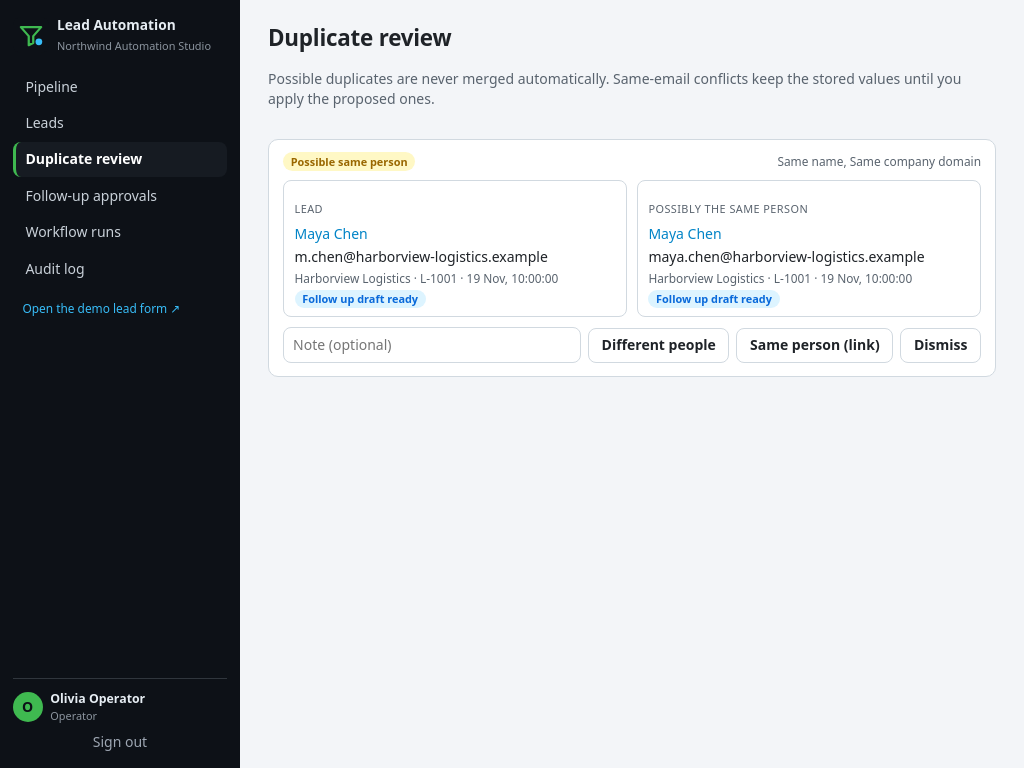
duplicate review › resolves a possible duplicate as different people
The width and height of the screenshot is (1024, 768).
Check: the text "Same name, Same company domain" is shown, box [777, 153, 981, 170]
Click the button "Different people" at (659, 345), box [588, 328, 729, 363]
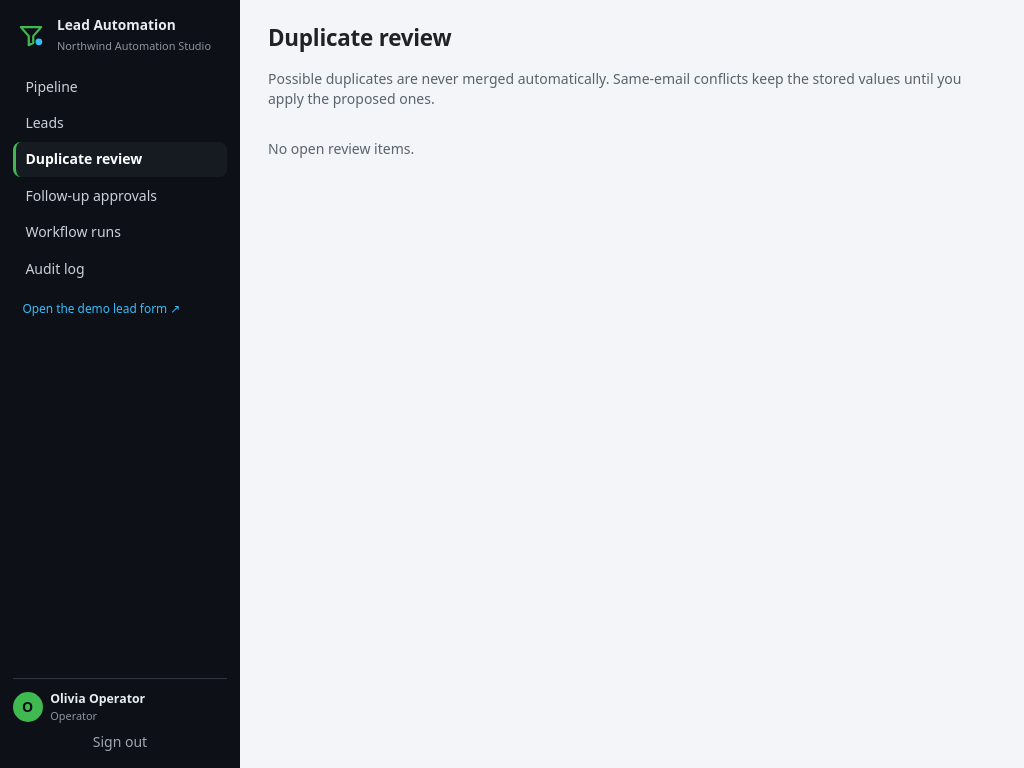
Check: the text "No open review items." is shown, box [268, 139, 414, 158]
